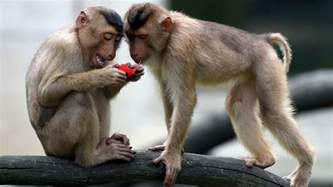monkey: (123, 3, 313, 187), (27, 7, 143, 166)
